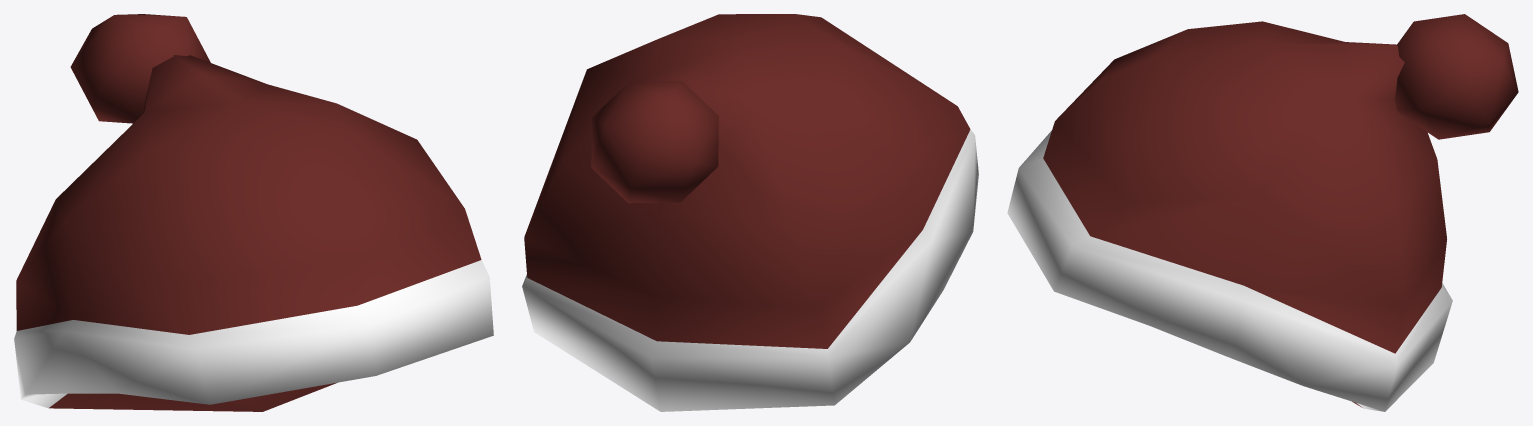
The model's file is Beanie.fbx.
3 renders of one model, left to right at view 1: azimuth 30°, elevation 25°; view 2: azimuth 150°, elevation 25°; view 3: azimuth 270°, elevation 25°, orthographic. The views are drawn at different scales.
Parts seen in each view (by area): view 1: SM_Attachment_Beanie_02; view 2: SM_Attachment_Beanie_02; view 3: SM_Attachment_Beanie_02.
Boxes of the visible parts, <box> form: SM_Attachment_Beanie_02: <box>14,14,493,411</box>; SM_Attachment_Beanie_02: <box>522,14,978,411</box>; SM_Attachment_Beanie_02: <box>1007,14,1518,411</box>.
Size of the model in its own units: 29.93 by 25.26 by 34.7.
